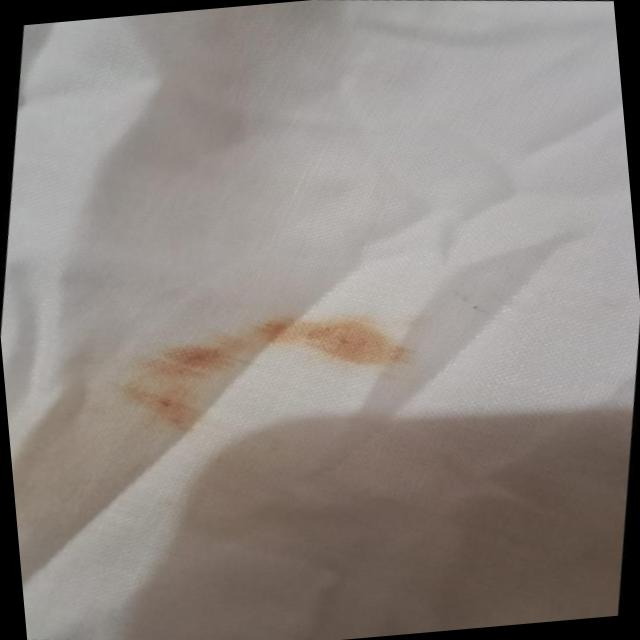stain: (90, 282, 437, 466)
